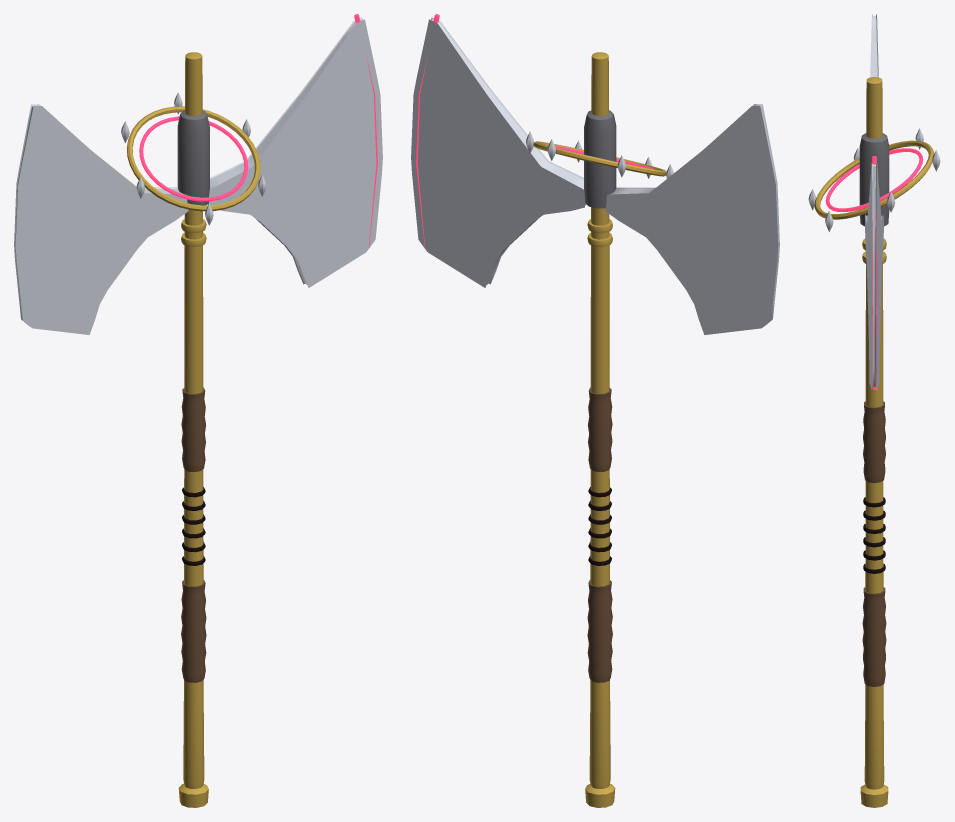
The model's file is esc_w_knight_greataxe_1.glb.
3 views of the same model, side by side, from view 1: azimuth 30°, elevation 25°; view 2: azimuth 150°, elevation 25°; view 3: azimuth 270°, elevation 25° (orthographic). The views are drawn at different scales.
Visible parts, largest first — view 1: esc_w_knight_greataxe_1; view 2: esc_w_knight_greataxe_1; view 3: esc_w_knight_greataxe_1.
Boxes of the visible parts, x1,y1,x2,y2 form: esc_w_knight_greataxe_1: (14, 14, 382, 807); esc_w_knight_greataxe_1: (411, 14, 779, 807); esc_w_knight_greataxe_1: (808, 14, 940, 807).
Bounding box in the file's own units: 0.8394 × 1.64 × 0.2702.
